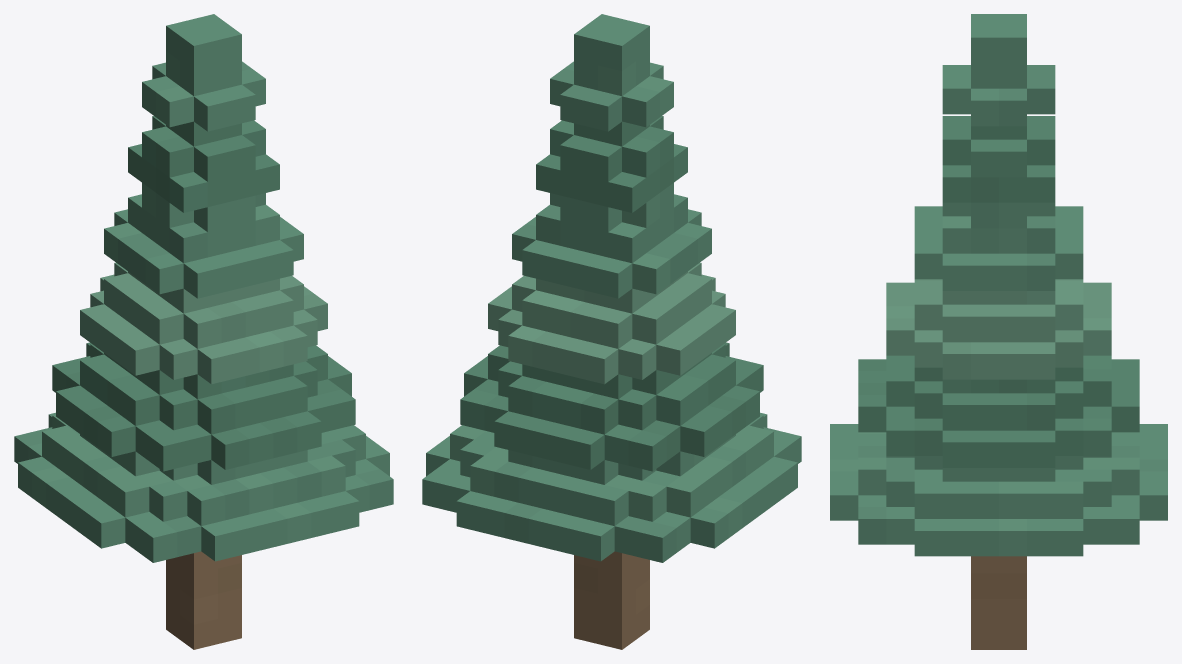
The model's file is grand_pin_1.glb.
3 renders of one model, left to right at view 1: azimuth 30°, elevation 25°; view 2: azimuth 150°, elevation 25°; view 3: azimuth 270°, elevation 25°, orthographic.
Visible parts, largest first — view 1: geometry_0; view 2: geometry_0; view 3: geometry_0.
Part boxes in pixels (x1=…): geometry_0: x1=14, y1=14, x2=393, y2=649; geometry_0: x1=422, y1=14, x2=801, y2=649; geometry_0: x1=830, y1=14, x2=1167, y2=649.
Bounding box in the file's own units: 3 × 6 × 3.
